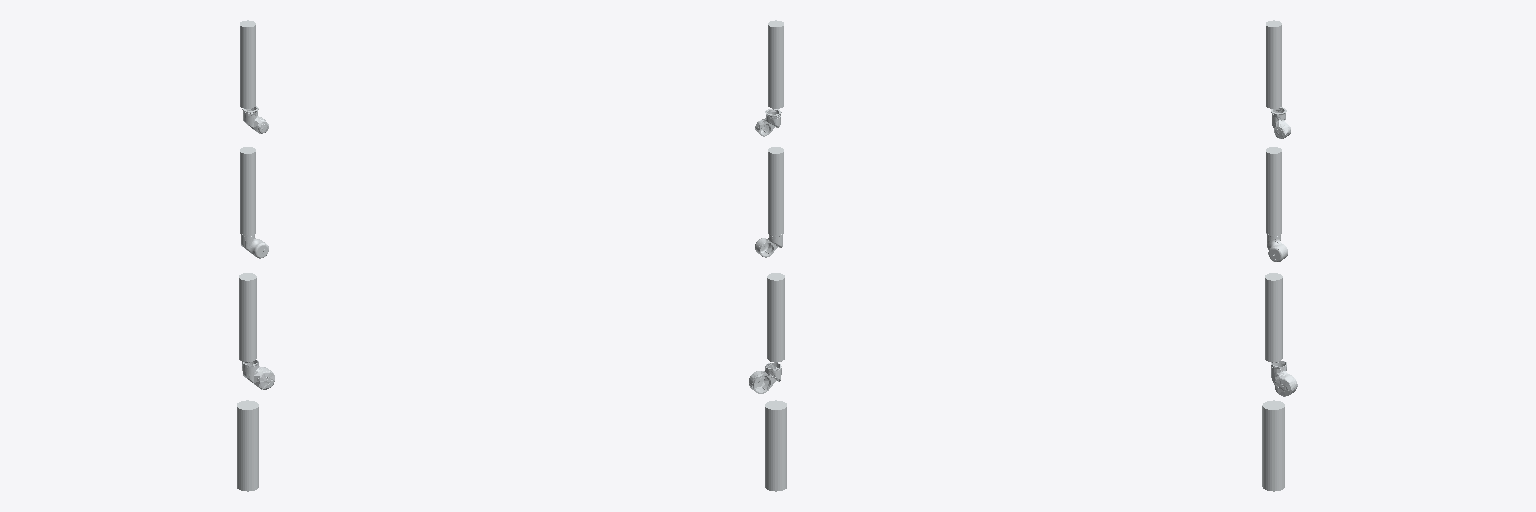
The robot description file, URDF, robot "rad_arm":
<?xml version="1.0" ?>
<!-- =================================================================================== -->
<!-- |    This document was autogenerated by xacro from rad_arm.urdf.xacro             | -->
<!-- |    EDITING THIS FILE BY HAND IS NOT RECOMMENDED                                 | -->
<!-- =================================================================================== -->
<robot name="rad_arm">
  <!-- Call subassembly macros -->
  <link name="base_link"/>
  <link name="cluster_1_base_link">
    <inertial>
      <origin rpy="0 0 0" xyz="0 0 0.5"/>
      <mass value="3"/>
      <inertia ixx="0.25" ixy="0" ixz="0" iyy="0.25" iyz="0" izz="0.0241935"/>
    </inertial>
    <visual>
      <origin rpy="0 0 0" xyz="0 0 0.5"/>
      <geometry>
        <cylinder length="1" radius="0.127"/>
      </geometry>
      <material name="">
        <color rgba="0.898039215686275 0.917647058823529 0.929411764705882 1.0"/>
      </material>
    </visual>
    <collision>
      <origin rpy="0 0 0" xyz="0 0 0.5"/>
      <geometry>
        <cylinder length="1" radius="0.127"/>
      </geometry>
    </collision>
  </link>
  <joint name="cluster_1_base_fix" type="fixed">
    <origin rpy="0 0 0" xyz="0 0 0"/>
    <parent link="base_link"/>
    <child link="cluster_1_base_link"/>
  </joint>
  <link name="cluster_1_proximal_link">
    <inertial>
      <origin rpy="0 0 0" xyz="0.046798 0.012731 0.19914"/>
      <mass value="16.527"/>
      <inertia ixx="0.12857" ixy="-0.0042312" ixz="-0.024627" iyy="0.18413" iyz="-0.0090974" izz="0.12848"/>
    </inertial>
    <visual>
      <origin rpy="0 0 0" xyz="0 0 0"/>
      <geometry>
        <mesh filename="package://meshes/776_meshes/proximal_link.STL"/>
      </geometry>
      <material name="">
        <color rgba="0.898039215686275 0.917647058823529 0.929411764705882 1"/>
      </material>
    </visual>
    <collision>
      <origin rpy="0 0 0" xyz="0 0 0"/>
      <geometry>
        <mesh filename="package://meshes/776_meshes/proximal_link.STL"/>
      </geometry>
    </collision>
  </link>
  <joint name="cluster_1_roll" type="revolute">
    <origin rpy="0 0 0" xyz="0 0 1"/>
    <parent link="cluster_1_base_link"/>
    <child link="cluster_1_proximal_link"/>
    <axis xyz="0 0 1"/>
    <limit effort="0" lower="-3.14" upper="3.14" velocity="0"/>
  </joint>
  <link name="cluster_1_distal_link">
    <inertial>
      <origin rpy="0 0 0" xyz="-0.068965 0.048381 0.046365"/>
      <mass value="5.08924821549112"/>
      <inertia ixx="0.037373" ixy="0.010261" ixz="-0.0025946" iyy="0.043174" iyz="0.0029455" izz="0.07227"/>
    </inertial>
    <visual>
      <origin rpy="0 0 0" xyz="0 0 0"/>
      <geometry>
        <mesh filename="package://meshes/776_meshes/distal_link.STL"/>
      </geometry>
      <material name="">
        <color rgba="0.898039215686275 0.917647058823529 0.929411764705882 1"/>
      </material>
    </visual>
    <collision>
      <origin rpy="0 0 0" xyz="0 0 0"/>
      <geometry>
        <mesh filename="package://meshes/776_meshes/distal_link.STL"/>
      </geometry>
    </collision>
  </link>
  <joint name="cluster_1_pitch" type="revolute">
    <origin rpy="1.57079632679489 0.0350103166030992 0" xyz="0.127 0 0.34925"/>
    <parent link="cluster_1_proximal_link"/>
    <child link="cluster_1_distal_link"/>
    <axis xyz="0 0 1"/>
    <limit effort="0" lower="-3.14" upper="0" velocity="0"/>
  </joint>
  <link name="cluster_1_end_link">
    <inertial>
      <origin rpy="0 0 0" xyz="2.43848157922259E-17 -4.007872071718E-18 -0.0104342372928212"/>
      <mass value="0.581661203844435"/>
      <inertia ixx="0.00233932902219998" ixy="-7.3654534010035E-06" ixz="-7.50582952724159E-20" iyy="0.00238344672116258" iyz="6.86826387024094E-20" izz="0.00466673140246013"/>
    </inertial>
    <visual>
      <origin rpy="0 0 0" xyz="0 0 0"/>
      <geometry>
        <mesh filename="package://meshes/776_meshes/end_link.STL"/>
      </geometry>
      <material name="">
        <color rgba="0.898039215686275 0.917647058823529 0.929411764705882 1"/>
      </material>
    </visual>
    <collision>
      <origin rpy="0 0 0" xyz="0 0 0"/>
      <geometry>
        <mesh filename="package://meshes/776_meshes/end_link.STL"/>
      </geometry>
    </collision>
  </link>
  <joint name="cluster_1_end_joint" type="fixed">
    <origin rpy="-1.57079632679489 0 0.0350103166030986" xyz="-0.134923898079026 0.224014512313731 0"/>
    <parent link="cluster_1_distal_link"/>
    <child link="cluster_1_end_link"/>
    <axis xyz="0 0 0"/>
  </joint>
  
  /
  <link name="cluster_2_base_link">
    <inertial>
      <origin rpy="0 0 0" xyz="0 0 0.5"/>
      <mass value="3"/>
      <inertia ixx="0.25" ixy="0" ixz="0" iyy="0.25" iyz="0" izz="0.015483839999999999"/>
    </inertial>
    <visual>
      <origin rpy="0 0 0" xyz="0 0 0.5"/>
      <geometry>
        <cylinder length="1" radius="0.1016"/>
      </geometry>
      <material name="">
        <color rgba="0.898039215686275 0.917647058823529 0.929411764705882 1.0"/>
      </material>
    </visual>
    <collision>
      <origin rpy="0 0 0" xyz="0 0 0.5"/>
      <geometry>
        <cylinder length="1" radius="0.1016"/>
      </geometry>
    </collision>
  </link>
  <joint name="cluster_2_base_fix" type="fixed">
    <origin rpy="0 0 0" xyz="0 0 0"/>
    <parent link="cluster_1_end_link"/>
    <child link="cluster_2_base_link"/>
  </joint>
  <link name="cluster_2_proximal_link">
    <inertial>
      <origin rpy="0 0 0" xyz="0.034064 0.015225 0.20259"/>
      <mass value="10.138"/>
      <inertia ixx="0.071824" ixy="-0.0023964" ixz="-0.012902" iyy="0.097281" iyz="-0.005982" izz="0.055843"/>
    </inertial>
    <visual>
      <origin rpy="0 0 0" xyz="0 0 0"/>
      <geometry>
        <mesh filename="package://meshes/665_meshes/proximal_link.STL"/>
      </geometry>
      <material name="">
        <color rgba="0.89804 0.91765 0.92941 1"/>
      </material>
    </visual>
    <collision>
      <origin rpy="0 0 0" xyz="0 0 0"/>
      <geometry>
        <mesh filename="package://meshes/665_meshes/proximal_link.STL"/>
      </geometry>
    </collision>
  </link>
  <joint name="cluster_2_roll" type="revolute">
    <origin rpy="0 0 0" xyz="0 0 1"/>
    <parent link="cluster_2_base_link"/>
    <child link="cluster_2_proximal_link"/>
    <axis xyz="0 0 1"/>
    <limit effort="0" lower="-3.14" upper="3.14" velocity="0"/>
  </joint>
  <link name="cluster_2_distal_link">
    <inertial>
      <origin rpy="0 0 0" xyz="-0.055572 0.049071 0.04399"/>
      <mass value="4.0284"/>
      <inertia ixx="0.022515" ixy="0.0059346" ixz="-0.0016026" iyy="0.023134" iyz="0.0022438" izz="0.039266"/>
    </inertial>
    <visual>
      <origin rpy="0 0 0" xyz="0 0 0"/>
      <geometry>
        <mesh filename="package://meshes/665_meshes/distal_link.STL"/>
      </geometry>
      <material name="">
        <color rgba="0.89804 0.91765 0.92941 1"/>
      </material>
    </visual>
    <collision>
      <origin rpy="0 0 0" xyz="0 0 0"/>
      <geometry>
        <mesh filename="package://meshes/665_meshes/distal_link.STL"/>
      </geometry>
    </collision>
  </link>
  <joint name="cluster_2_pitch" type="revolute">
    <origin rpy="1.5708 0 0" xyz="0.1016 0 0.34925"/>
    <parent link="cluster_2_proximal_link"/>
    <child link="cluster_2_distal_link"/>
    <axis xyz="0 0 1"/>
    <limit effort="0" lower="-3.14" upper="0" velocity="0"/>
  </joint>
  <link name="cluster_2_end_link">
    <inertial>
      <origin rpy="0 0 0" xyz="4.2771E-17 7.0876E-18 -0.010403"/>
      <mass value="0.55563"/>
      <inertia ixx="0.0017528" ixy="-5.5126E-06" ixz="-2.8092E-20" iyy="0.0017867" iyz="5.4202E-20" izz="0.0034861"/>
    </inertial>
    <visual>
      <origin rpy="0 0 0" xyz="0 0 0"/>
      <geometry>
        <mesh filename="package://meshes/665_meshes/end_link.STL"/>
      </geometry>
      <material name="">
        <color rgba="0.89804 0.91765 0.92941 1"/>
      </material>
    </visual>
    <collision>
      <origin rpy="0 0 0" xyz="0 0 0"/>
      <geometry>
        <mesh filename="package://meshes/665_meshes/end_link.STL"/>
      </geometry>
    </collision>
  </link>
  <joint name="cluster_2_end_joint" type="fixed">
    <origin rpy="-1.5708 0 0" xyz="-0.1016 0.2032 0"/>
    <parent link="cluster_2_distal_link"/>
    <child link="cluster_2_end_link"/>
    <axis xyz="0 0 0"/>
  </joint>
  
  /
  <link name="cluster_3_base_link">
    <inertial>
      <origin rpy="0 0 0" xyz="0 0 0.5"/>
      <mass value="3"/>
      <inertia ixx="0.25" ixy="0" ixz="0" iyy="0.25" iyz="0" izz="0.012716708437500002"/>
    </inertial>
    <visual>
      <origin rpy="0 0 0" xyz="0 0 0.5"/>
      <geometry>
        <cylinder length="1" radius="0.092075"/>
      </geometry>
      <material name="">
        <color rgba="0.898039215686275 0.917647058823529 0.929411764705882 1.0"/>
      </material>
    </visual>
    <collision>
      <origin rpy="0 0 0" xyz="0 0 0.5"/>
      <geometry>
        <cylinder length="1" radius="0.092075"/>
      </geometry>
    </collision>
  </link>
  <joint name="cluster_3_base_fix" type="fixed">
    <origin rpy="0 0 0" xyz="0 0 0"/>
    <parent link="cluster_2_end_link"/>
    <child link="cluster_3_base_link"/>
  </joint>
  <link name="cluster_3_proximal_link">
    <inertial>
      <origin rpy="0 0 0" xyz="0.026668 0.014315 0.20188"/>
      <mass value="9.0522"/>
      <inertia ixx="0.058256" ixy="-0.0014722" ixz="-0.0091403" iyy="0.074763" iyz="-0.005053" izz="0.037435"/>
    </inertial>
    <visual>
      <origin rpy="0 0 0" xyz="0 0 0"/>
      <geometry>
        <mesh filename="package://meshes/5555_meshes/proximal_link.STL"/>
      </geometry>
      <material name="">
        <color rgba="0.89804 0.91765 0.92941 1"/>
      </material>
    </visual>
    <collision>
      <origin rpy="0 0 0" xyz="0 0 0"/>
      <geometry>
        <mesh filename="package://meshes/5555_meshes/proximal_link.STL"/>
      </geometry>
    </collision>
  </link>
  <joint name="cluster_3_roll" type="revolute">
    <origin rpy="0 0 0" xyz="0 0 1"/>
    <parent link="cluster_3_base_link"/>
    <child link="cluster_3_proximal_link"/>
    <axis xyz="0 0 1"/>
    <limit effort="0" lower="-3.14" upper="3.14" velocity="0"/>
  </joint>
  <link name="cluster_3_distal_link">
    <inertial>
      <origin rpy="0 0 0" xyz="-0.060532 0.075438 0.029078"/>
      <mass value="3.9917"/>
      <inertia ixx="0.019642" ixy="0.0046604" ixz="-0.001186" iyy="0.020517" iyz="0.0019403" izz="0.031529"/>
    </inertial>
    <visual>
      <origin rpy="0 0 0" xyz="0 0 0"/>
      <geometry>
        <mesh filename="package://meshes/5555_meshes/distal_link.STL"/>
      </geometry>
      <material name="">
        <color rgba="0.89804 0.91765 0.92941 1"/>
      </material>
    </visual>
    <collision>
      <origin rpy="0 0 0" xyz="0 0 0"/>
      <geometry>
        <mesh filename="package://meshes/5555_meshes/distal_link.STL"/>
      </geometry>
    </collision>
  </link>
  <joint name="cluster_3_pitch" type="revolute">
    <origin rpy="1.5708 0 0" xyz="0.0889 0 0.34925"/>
    <parent link="cluster_3_proximal_link"/>
    <child link="cluster_3_distal_link"/>
    <axis xyz="0 0 1"/>
    <limit effort="0" lower="-3.14" upper="0" velocity="0"/>
  </joint>
  <link name="cluster_3_mid_link">
    <inertial>
      <origin rpy="0 0 0" xyz="0 0 0.5"/>
      <mass value="3"/>
      <inertia ixx="0.25" ixy="0" ixz="0" iyy="0.25" iyz="0" izz="0.012716708437500002"/>
    </inertial>
    <visual>
      <origin rpy="0 0 0" xyz="0 0 0.5"/>
      <geometry>
        <cylinder length="1" radius="0.092075"/>
      </geometry>
      <material name="">
        <color rgba="0.89804 0.91765 0.92941 1"/>
      </material>
    </visual>
    <collision>
      <origin rpy="0 0 0" xyz="0 0 0.5"/>
      <geometry>
        <cylinder length="1" radius="0.092075"/>
      </geometry>
    </collision>
  </link>
  <joint name="cluster_3_mid_joint" type="fixed">
    <origin rpy="-1.5708 0 0" xyz="-0.0889 0.2032 0"/>
    <parent link="cluster_3_distal_link"/>
    <child link="cluster_3_mid_link"/>
    <axis xyz="0 0 0"/>
  </joint>
  <link name="cluster_3_wrist_link">
    <inertial>
      <origin rpy="0 0 0" xyz="9.9701E-06 -0.00027566 0.041402"/>
      <mass value="2.5013"/>
      <inertia ixx="0.0054733" ixy="8.5794E-06" ixz="3.4823E-07" iyy="0.0055261" iyz="1.3679E-06" izz="0.010225"/>
    </inertial>
    <visual>
      <origin rpy="0 0 0" xyz="0 0 0"/>
      <geometry>
        <mesh filename="package://meshes/5555_meshes/wrist_link.STL"/>
      </geometry>
      <material name="">
        <color rgba="0.89804 0.91765 0.92941 1"/>
      </material>
    </visual>
    <collision>
      <origin rpy="0 0 0" xyz="0 0 0"/>
      <geometry>
        <mesh filename="package://meshes/5555_meshes/wrist_link.STL"/>
      </geometry>
    </collision>
  </link>
  <joint name="cluster_3_wrist" type="revolute">
    <origin rpy="0 0 0" xyz="0 0 1"/>
    <parent link="cluster_3_mid_link"/>
    <child link="cluster_3_wrist_link"/>
    <axis xyz="0 0 1"/>
    <limit effort="0" lower="-3.14" upper="3.14" velocity="0"/>
  </joint>
  <link name="cluster_3_end_link">
  </link>
  <joint name="cluster_3_end_joint" type="fixed">
    <origin rpy="0 0 0" xyz="0 0 0.082551"/>
    <parent link="cluster_3_wrist_link"/>
    <child link="cluster_3_end_link"/>
    <axis xyz="0 0 0"/>
  </joint>
  
  /
</robot>

--- Facts derived from the render (not from the file) ---
Views: 3 orthographic renders of the robot side by side, from view 1: azimuth 30°, elevation 25°; view 2: azimuth 210°, elevation 25°; view 3: azimuth 330°, elevation 25°.
Robot: rad_arm — 15 links, 14 joints (7 revolute, 7 fixed); root link base_link; default pose: every joint at zero.
Links seen in each view (by area): view 1: cluster_1_base_link, cluster_2_base_link, cluster_3_mid_link, cluster_3_base_link, cluster_1_distal_link; view 2: cluster_1_base_link, cluster_2_base_link, cluster_3_mid_link, cluster_3_base_link, cluster_1_distal_link; view 3: cluster_1_base_link, cluster_2_base_link, cluster_3_mid_link, cluster_3_base_link, cluster_1_distal_link.
Boxes of the visible links, box(x1,y1,x2,y2) form: cluster_1_base_link: box(237, 400, 258, 491); cluster_2_base_link: box(239, 273, 256, 361); cluster_3_mid_link: box(240, 20, 255, 108); cluster_3_base_link: box(240, 147, 255, 234); cluster_1_distal_link: box(242, 360, 274, 389); cluster_1_base_link: box(765, 400, 786, 491); cluster_2_base_link: box(767, 273, 784, 361); cluster_3_mid_link: box(768, 20, 783, 108); cluster_3_base_link: box(768, 147, 783, 234); cluster_1_distal_link: box(749, 363, 781, 393); cluster_1_base_link: box(1262, 400, 1284, 491); cluster_2_base_link: box(1265, 273, 1282, 361); cluster_3_mid_link: box(1266, 20, 1281, 108); cluster_3_base_link: box(1266, 147, 1281, 234); cluster_1_distal_link: box(1271, 361, 1297, 396).
Size in the robot's own frame: 0.4235 by 0.2817 by 5.68 metres.
Meshes: 9 distinct files referenced, 5 mesh visuals loaded (5 binary STL); not drawn: 4 (reference not matched to a file when rendering).
